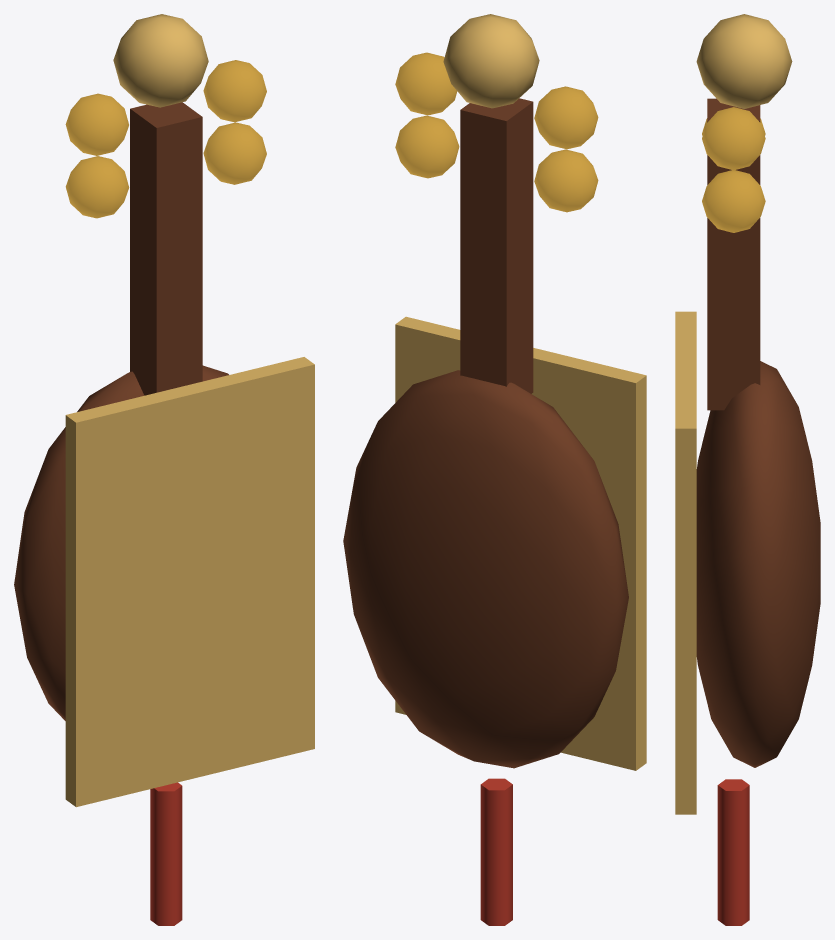
Rendered from BO_SM_EnemyPart_ApsaraPipa_v001.glb.
3 views of the same model, side by side, from view 1: azimuth 30°, elevation 25°; view 2: azimuth 150°, elevation 25°; view 3: azimuth 270°, elevation 25° (orthographic).
Visible parts, largest first — view 1: body_001, body_002, body_000, body_003, body_004, glow_005, glow_007, glow_006, glow_008; view 2: body_000, body_001, body_002, body_003, body_004, glow_006, glow_007, glow_008, glow_005; view 3: body_000, body_001, body_002, body_003, body_004, glow_007, glow_005.
Boxes of the visible parts, x1,y1,x2,y2 form: body_001: (65, 357, 314, 807); body_002: (130, 102, 202, 395); body_000: (14, 365, 228, 720); body_003: (113, 14, 208, 107); body_004: (150, 782, 182, 925); glow_005: (203, 60, 266, 122); glow_007: (203, 122, 266, 184); glow_006: (65, 93, 128, 155); glow_008: (65, 156, 129, 218); body_000: (343, 370, 628, 768); body_001: (395, 316, 646, 770); body_002: (460, 98, 533, 393); body_003: (443, 14, 539, 108); body_004: (480, 778, 512, 925); glow_006: (534, 86, 598, 149); glow_007: (395, 115, 459, 178); glow_008: (534, 149, 598, 212); glow_005: (395, 52, 457, 115); body_000: (696, 361, 820, 767); body_001: (675, 311, 696, 814); body_002: (707, 98, 760, 410); body_003: (696, 14, 792, 108); body_004: (717, 779, 749, 925); glow_007: (702, 170, 765, 232); glow_005: (702, 107, 765, 170).
Size of the model in its own units: 0.2938 by 0.935 by 0.1367.
